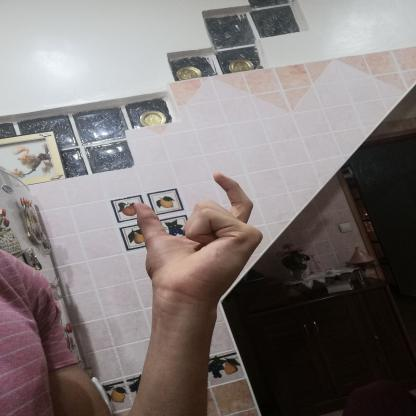NOON: (119, 168, 275, 314)
